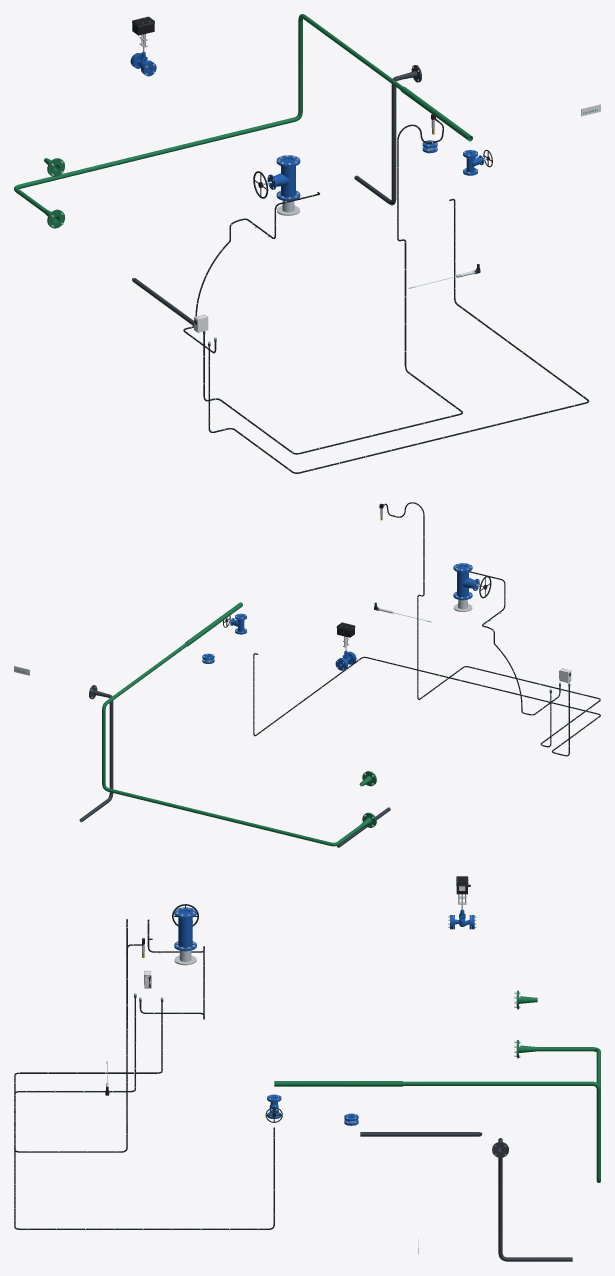
The picture shows the model from 3 angles, top to bottom: view 1: azimuth 30°, elevation 25°; view 2: azimuth 150°, elevation 25°; view 3: azimuth 270°, elevation 25°; orthographic projection. The views are drawn at different scales.
Parts seen in each view (by area): view 1: to_economizer / green, wiring_pressure_transmitter / black, wiring_pump_1 / black, bottom_to_bdv / dark, steam_manual / blue, wiring_low_level_2 / black; view 2: to_economizer / green, wiring_pump_1 / black, wiring_pressure_transmitter / black, bottom_to_bdv / dark, steam_manual / blue; view 3: to_economizer / green, wiring_pressure_transmitter / black, wiring_pump_1 / black, bottom_to_bdv / dark, pump_delivery / green, steam_manual / blue, bottom_piping / dark.
Boxes of the visible parts, x1=… form: to_economizer / green: x1=14, y1=14, x2=402, y2=212; wiring_pressure_transmitter / black: x1=203, y1=116, x2=462, y2=454; wiring_pump_1 / black: x1=208, y1=198, x2=589, y2=473; bottom_to_bdv / dark: x1=354, y1=65, x2=421, y2=205; steam_manual / blue: x1=267, y1=155, x2=300, y2=200; wiring_low_level_2 / black: x1=183, y1=192, x2=319, y2=353; to_economizer / green: x1=102, y1=642, x2=362, y2=846; wiring_pump_1 / black: x1=253, y1=653, x2=600, y2=756; wiring_pressure_transmitter / black: x1=379, y1=502, x2=600, y2=747; bottom_to_bdv / dark: x1=79, y1=685, x2=113, y2=822; steam_manual / blue: x1=453, y1=563, x2=479, y2=600; to_economizer / green: x1=403, y1=1047, x2=600, y2=1182; wiring_pressure_transmitter / black: x1=14, y1=919, x2=162, y2=1152; wiring_pump_1 / black: x1=14, y1=998, x2=274, y2=1229; bottom_to_bdv / dark: x1=492, y1=1138, x2=572, y2=1261; pump_delivery / green: x1=274, y1=1081, x2=402, y2=1086; steam_manual / blue: x1=174, y1=907, x2=196, y2=951; bottom_piping / dark: x1=360, y1=1132, x2=482, y2=1136.
Size of the model in its own units: 5.87 by 2.77 by 5.71.
